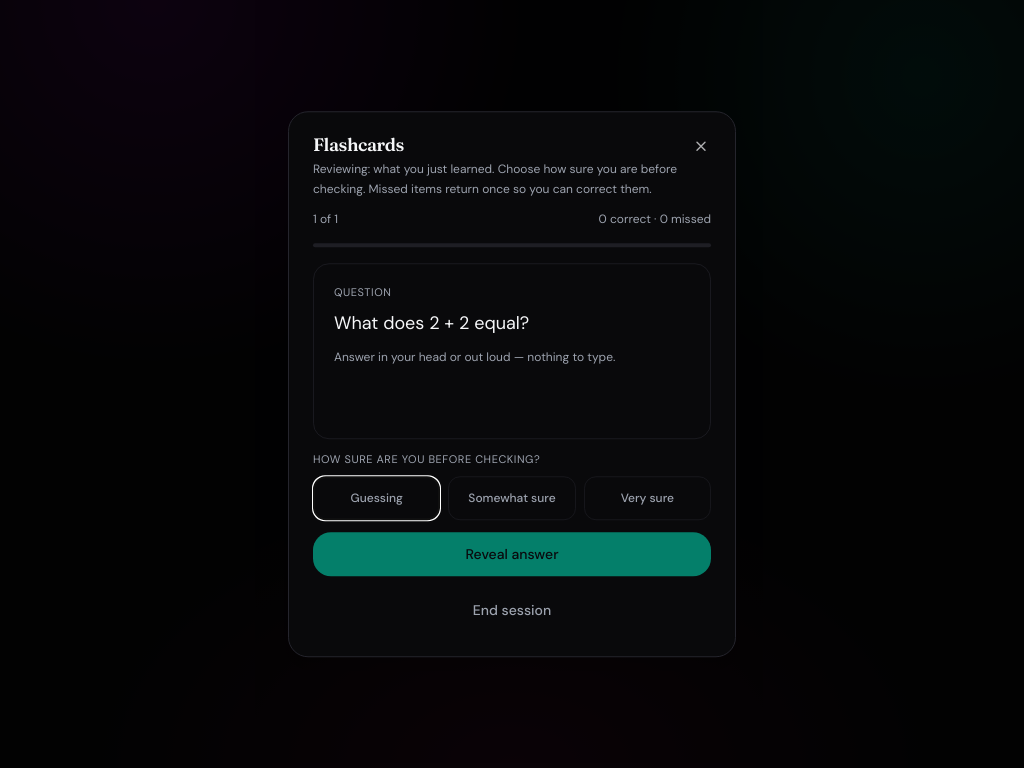
real flashcard runner › leaves saving state and lets the student retry after a network rejection
Click the button "Very sure": (647, 498) [584, 476, 711, 520]
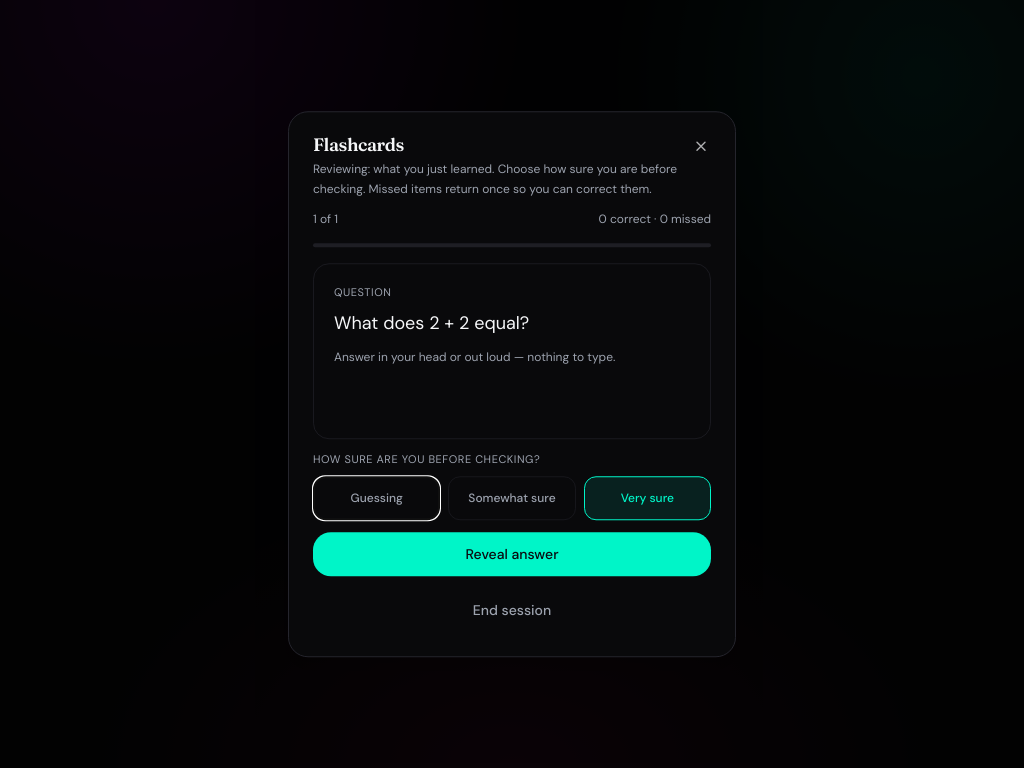
Click the button "Reveal answer": (512, 554) [313, 532, 711, 576]
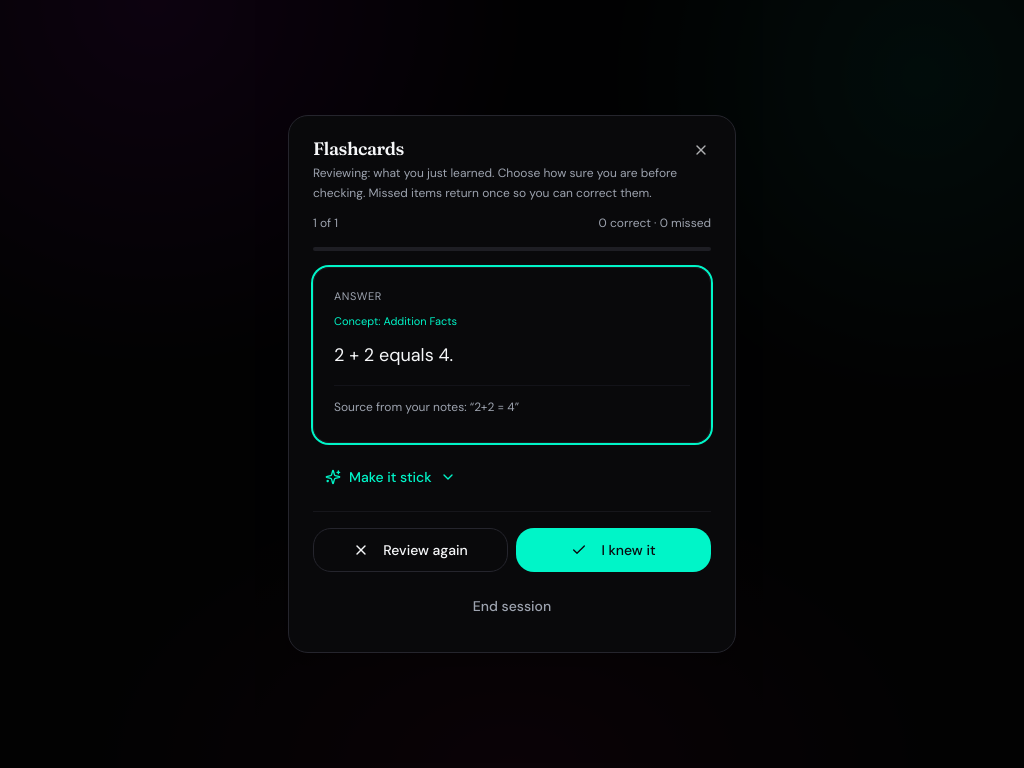
Check: the button "I knew it" is enabled
Click the button "I knew it": (614, 550) [516, 528, 711, 572]
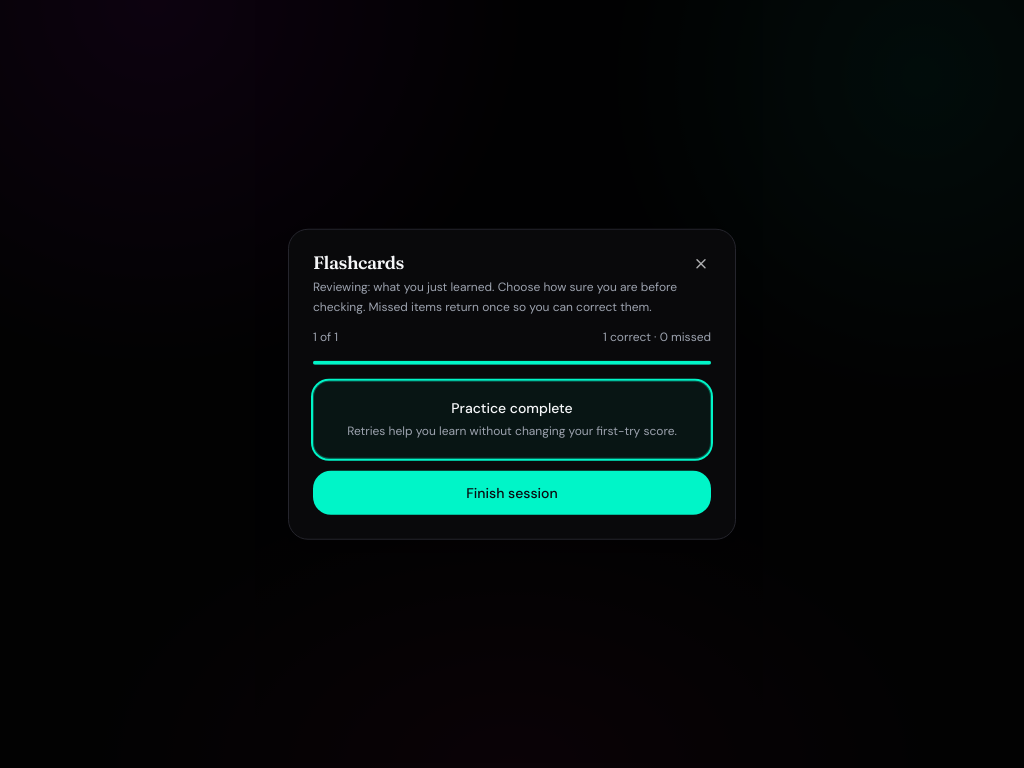
Click the button "Finish session": (512, 492) [313, 470, 711, 514]
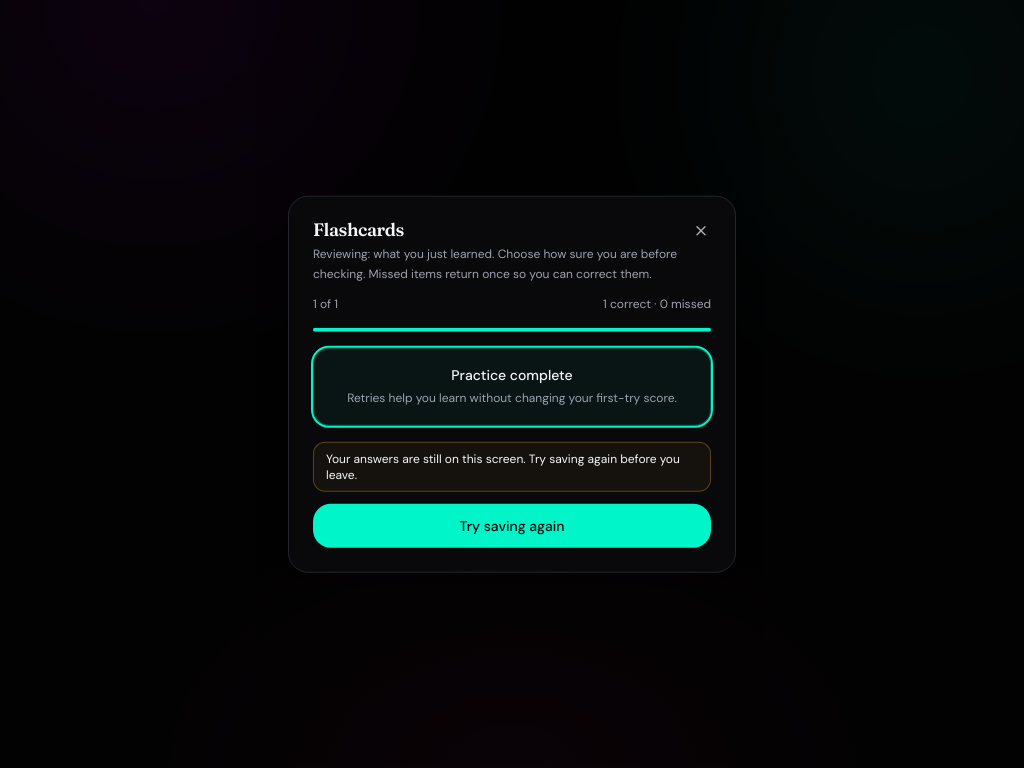
Check: the button "Try saving again" is enabled, box [313, 503, 711, 547]
Check: the message "Your answers are still on this screen. Try saving again before you leave." is shown, box [313, 441, 711, 491]
